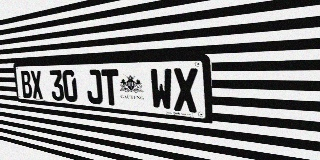0: (62, 70, 78, 102)
3: (49, 70, 64, 101)
B: (20, 70, 33, 98)
J: (85, 69, 103, 105)
T: (101, 69, 120, 106)
W: (150, 68, 173, 111)
X: (173, 68, 199, 113), (30, 70, 44, 99)
